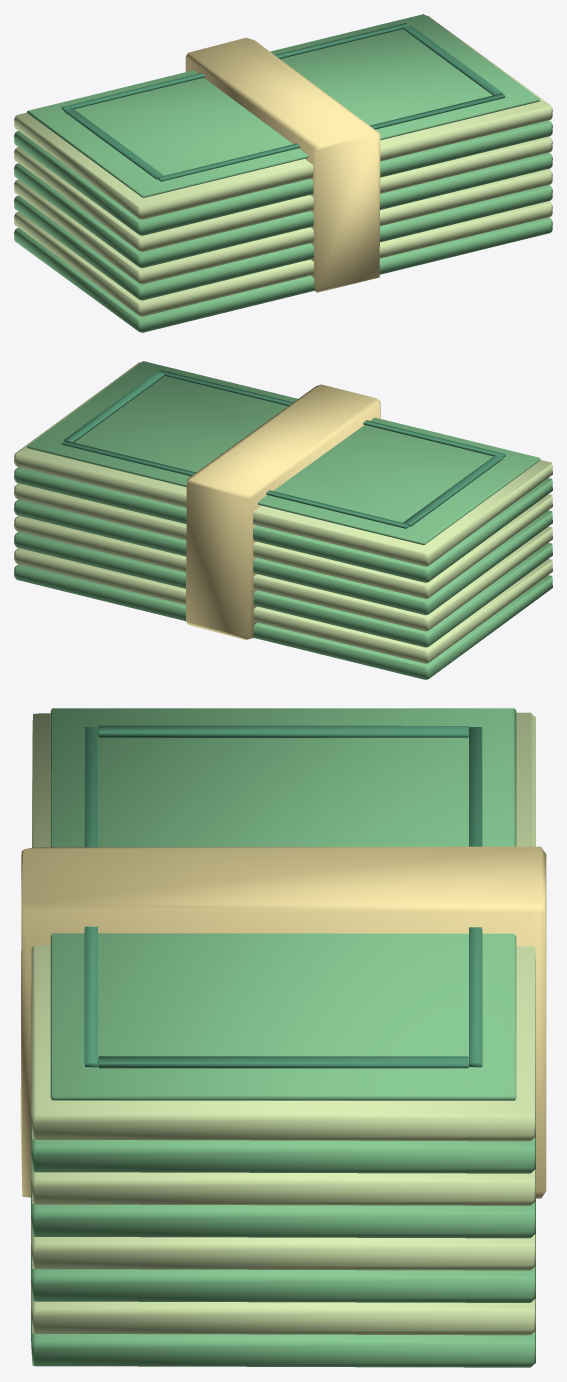
File: wealth.glb
3 renders of one model, top to bottom at view 1: azimuth 30°, elevation 25°; view 2: azimuth 150°, elevation 25°; view 3: azimuth 270°, elevation 25°, orthographic. The views are drawn at different scales.
Visible parts, largest first — view 1: Printed top note, Cream strap, Layered note.007, Layered note, Layered note.001, Layered note.003, Layered note.006, Layered note.002, Layered note.005, Layered note.004, Fine print.002, Fine print.003 (+2 smaller); view 2: Printed top note, Cream strap, Layered note.007, Layered note.004, Layered note.003, Layered note.005, Layered note.006, Layered note.002, Layered note, Layered note.001, Fine print.003, Fine print.002 (+2 smaller); view 3: Printed top note, Cream strap, Layered note.007, Layered note.001, Layered note, Layered note.002, Layered note.004, Layered note.006, Layered note.003, Layered note.005, Fine print.001, Fine print (+2 smaller).
Part boxes in pixels (<box>): Printed top note: <box>27,14,539,197</box>; Cream strap: <box>185,37,380,292</box>; Layered note.007: <box>14,15,552,219</box>; Layered note: <box>14,217,552,332</box>; Layered note.001: <box>14,201,552,316</box>; Layered note.003: <box>14,169,552,284</box>; Layered note.006: <box>14,120,552,235</box>; Layered note.002: <box>14,185,552,300</box>; Layered note.005: <box>14,136,552,251</box>; Layered note.004: <box>14,152,552,267</box>; Fine print.002: <box>157,93,505,181</box>; Fine print.003: <box>61,23,408,110</box>; Printed top note: <box>27,361,540,545</box>; Cream strap: <box>186,384,380,639</box>; Layered note.007: <box>14,362,552,566</box>; Layered note.004: <box>14,499,552,615</box>; Layered note.003: <box>14,515,552,631</box>; Layered note.005: <box>14,483,552,598</box>; Layered note.006: <box>14,467,552,582</box>; Layered note.002: <box>14,532,552,647</box>; Layered note: <box>14,564,552,679</box>; Layered note.001: <box>14,548,552,663</box>; Fine print.003: <box>61,440,409,528</box>; Fine print.002: <box>158,370,505,457</box>; Printed top note: <box>50,708,516,1100</box>; Cream strap: <box>20,846,546,1198</box>; Layered note.007: <box>31,712,535,1141</box>; Layered note.001: <box>31,1278,535,1335</box>; Layered note: <box>31,1310,535,1367</box>; Layered note.002: <box>31,1245,535,1302</box>; Layered note.004: <box>31,1181,535,1238</box>; Layered note.006: <box>31,1116,535,1173</box>; Layered note.003: <box>31,1213,535,1270</box>; Layered note.005: <box>31,1148,535,1205</box>; Fine print.001: <box>98,1056,468,1068</box>; Fine print: <box>98,725,468,737</box>.
Size of the model in its own units: 0.6976 by 0.2359 by 0.383.
